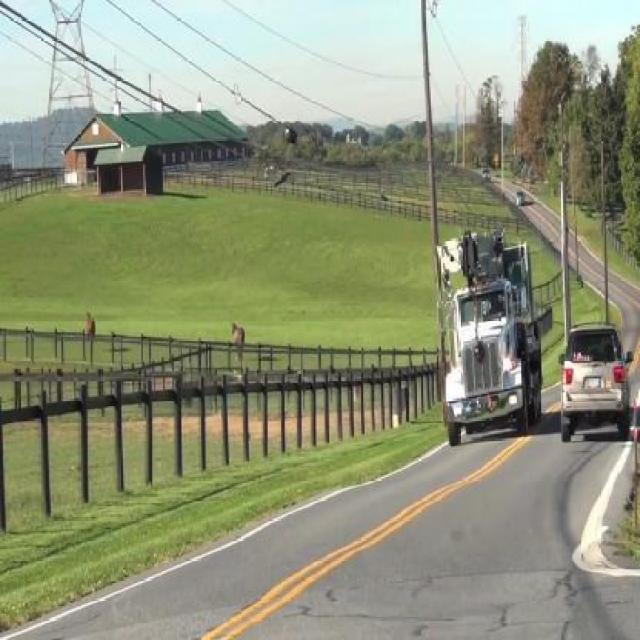Mobile Crane: (436, 237, 541, 435)
